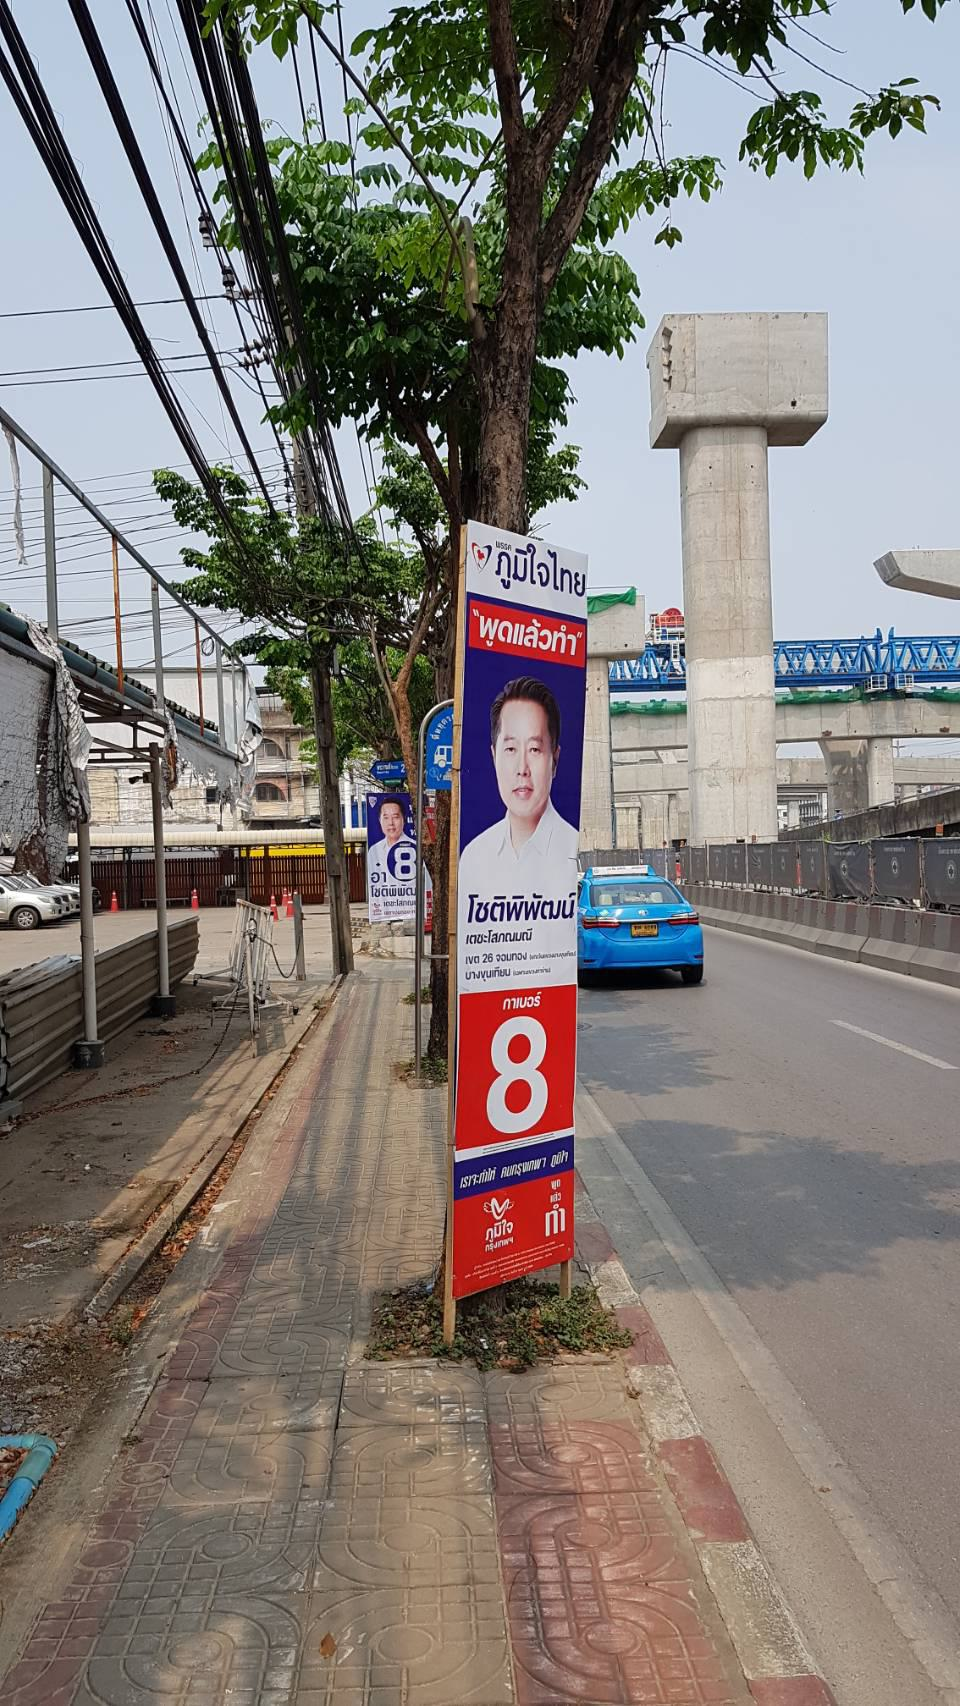Banner: (456, 528, 602, 1299)
